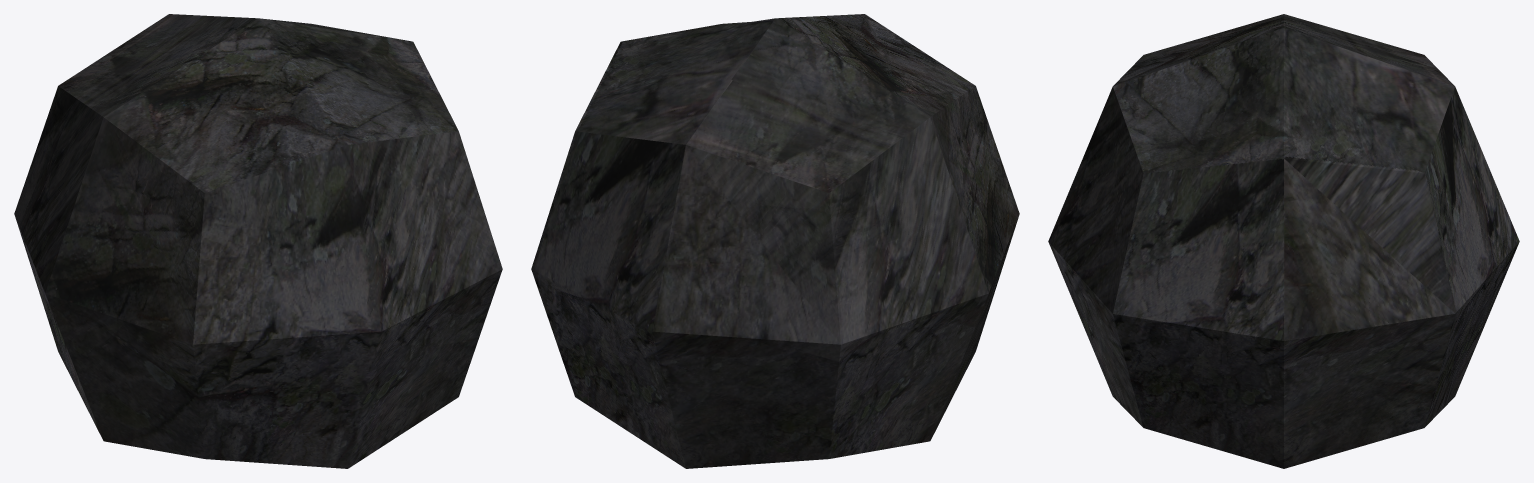
The model's file is coal.fbx.
3 views of the same model, side by side, from view 1: azimuth 30°, elevation 25°; view 2: azimuth 150°, elevation 25°; view 3: azimuth 270°, elevation 25° (orthographic). The views are drawn at different scales.
Parts seen in each view (by area): view 1: Cube; view 2: Cube; view 3: Cube.
Part boxes in pixels (<box>): Cube: <box>14,14,502,468</box>; Cube: <box>531,14,1019,468</box>; Cube: <box>1048,14,1519,468</box>.
Size of the model in its own units: 16.31 by 14.43 by 16.31.
1 material, 1 textured.
